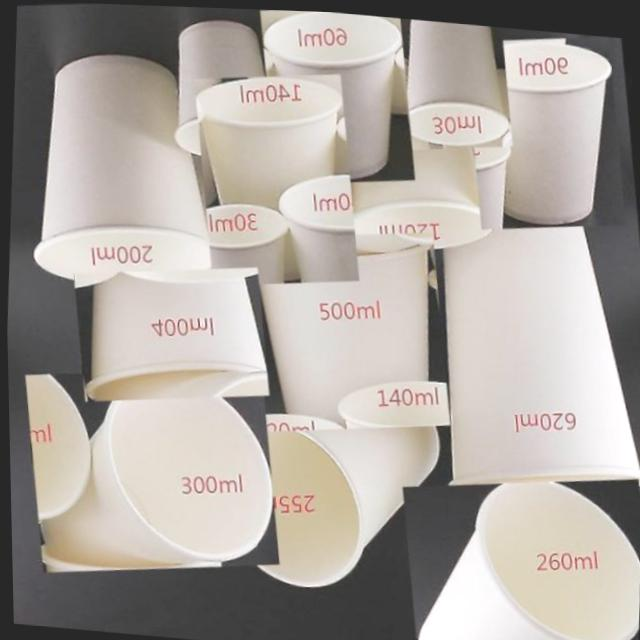Cup: (406, 193, 640, 506), (13, 344, 287, 589), (2, 31, 233, 304), (195, 388, 458, 609), (233, 212, 459, 444), (391, 452, 640, 640), (183, 57, 369, 296), (321, 51, 505, 262), (454, 21, 635, 235), (64, 249, 275, 415), (251, 7, 422, 192), (154, 5, 289, 168), (381, 14, 518, 155)
